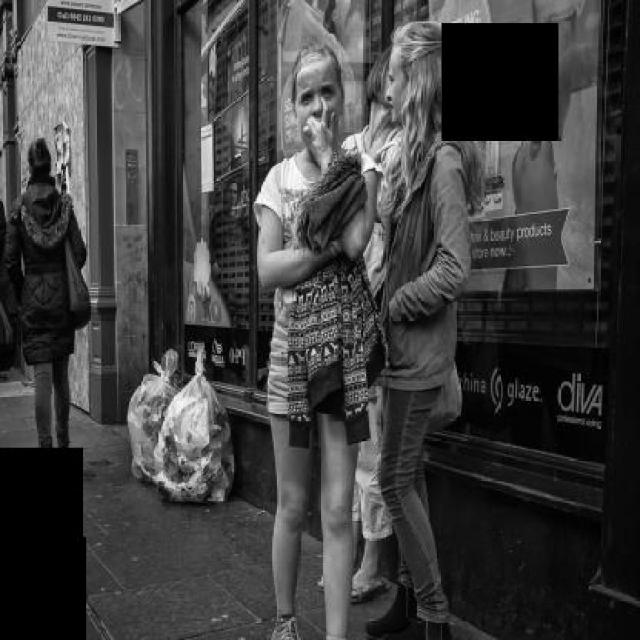plastic bag: (151, 348, 234, 502), (123, 348, 182, 482)
